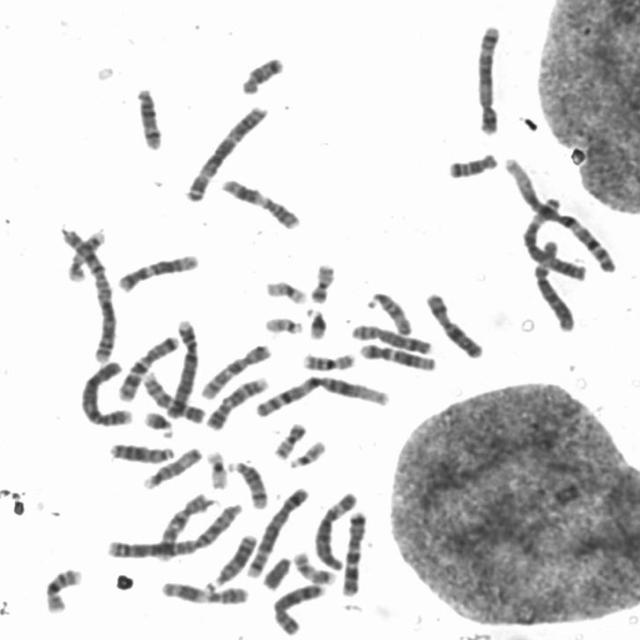A1: (498, 152, 619, 274), (249, 370, 392, 419)
A2: (102, 497, 245, 561), (57, 223, 118, 364)
A3: (180, 99, 270, 203), (517, 192, 589, 282)
B4: (161, 315, 200, 421), (77, 357, 135, 428)
B5: (243, 482, 313, 580), (472, 20, 504, 136)
C10: (195, 339, 273, 401), (152, 488, 214, 562)
C11: (217, 173, 303, 230), (157, 576, 252, 606)
C12: (113, 249, 201, 293), (356, 339, 439, 372)
C6: (531, 235, 579, 333), (310, 488, 360, 574)
C7: (114, 329, 182, 403), (336, 507, 369, 597)
C8: (268, 578, 328, 636), (348, 319, 436, 356)
C9: (201, 372, 270, 431), (137, 366, 206, 425)
D13: (204, 529, 260, 591), (107, 438, 177, 464)
D14: (224, 456, 270, 510), (131, 82, 166, 152)
D15: (138, 442, 204, 490), (364, 287, 414, 336)
E16: (40, 563, 84, 615), (298, 347, 359, 372)
E17: (66, 226, 110, 283), (288, 546, 338, 586)
E18: (237, 51, 287, 95), (443, 148, 500, 180)
F19: (261, 276, 309, 306), (202, 446, 230, 490)
F20: (269, 418, 309, 460), (306, 258, 338, 304)
G21: (140, 406, 177, 439), (303, 304, 330, 341)
G22: (284, 436, 329, 470), (260, 312, 306, 335)
X: (422, 288, 486, 360)
Y: (258, 552, 294, 590)
